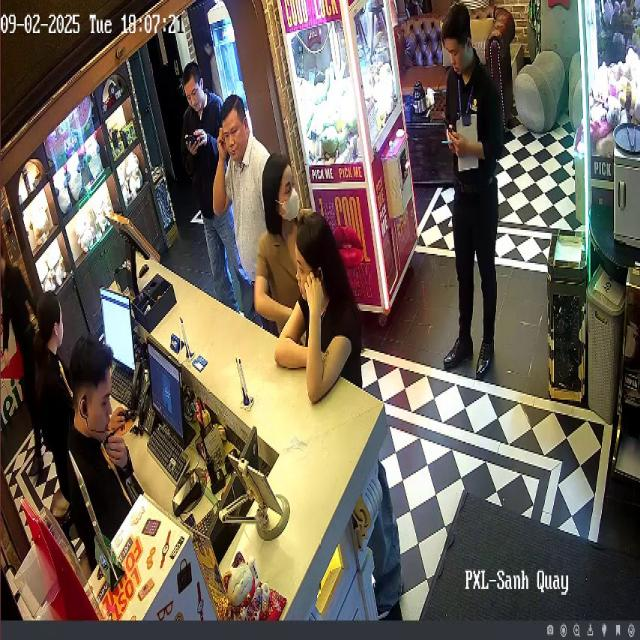khach: (288, 196, 393, 429), (168, 50, 242, 319), (218, 84, 272, 323), (254, 127, 306, 349)
nhan vien: (423, 1, 508, 400), (62, 332, 148, 624), (33, 281, 79, 484), (1, 246, 46, 439)
